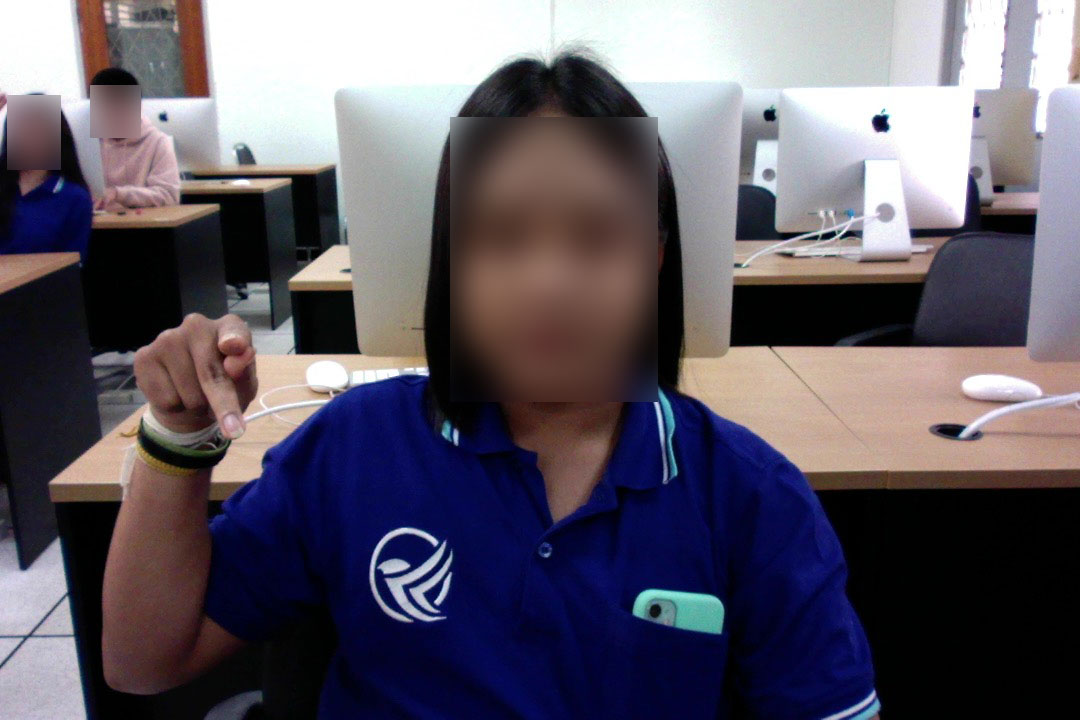por: (126, 300, 266, 444)
